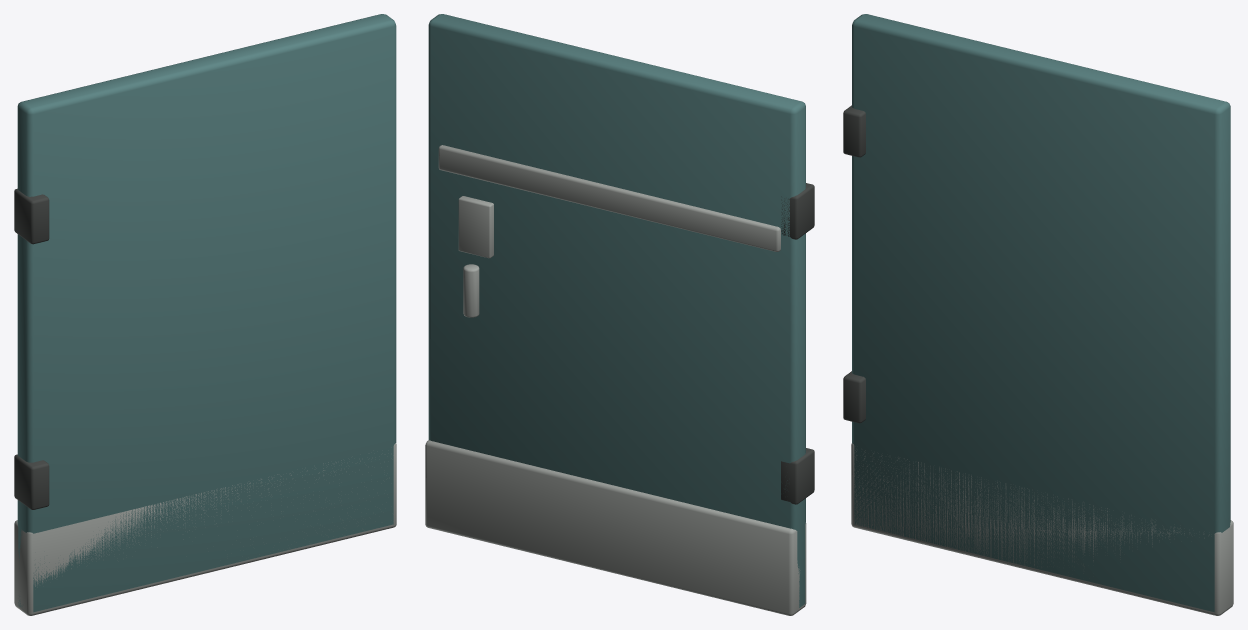
The model's file is hab_door_v4.glb.
The picture shows the model from 3 angles, left to right: view 1: azimuth 30°, elevation 25°; view 2: azimuth 150°, elevation 25°; view 3: azimuth 330°, elevation 25°; orthographic projection.
Visible parts, largest first — view 1: HabDoor; view 2: HabDoor; view 3: HabDoor.
Part boxes in pixels (x1,y1,x2,y2): HabDoor: [14, 14, 396, 615]; HabDoor: [425, 14, 814, 615]; HabDoor: [843, 14, 1233, 615].
Size of the model in its own units: 1.61 by 2.1 by 0.2206.
